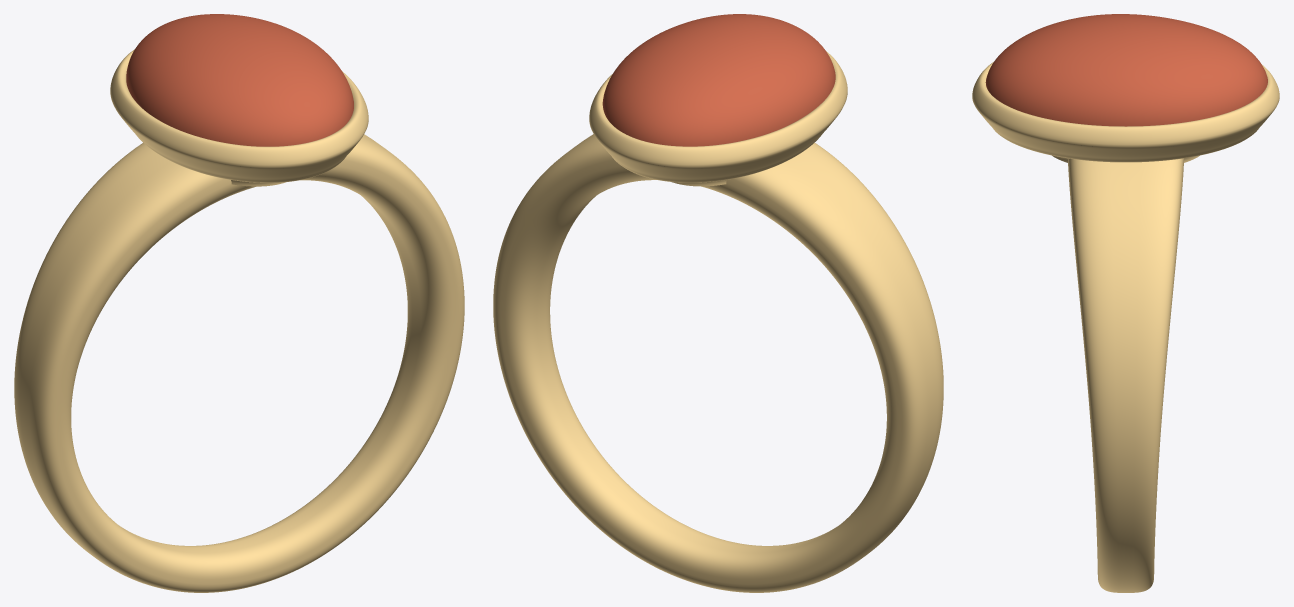
The model's file is vyoma-classic-moonga.glb.
3 renders of one model, left to right at view 1: azimuth 30°, elevation 25°; view 2: azimuth 150°, elevation 25°; view 3: azimuth 270°, elevation 25°, orthographic.
Parts seen in each view (by area): view 1: shank, stone, metal; view 2: shank, stone, metal; view 3: shank, stone, metal.
Part boxes in pixels (x1=…): shank: x1=14, y1=134, x2=464, y2=592; stone: x1=126, y1=14, x2=353, y2=146; metal: x1=110, y1=49, x2=368, y2=186; shank: x1=493, y1=134, x2=943, y2=592; stone: x1=602, y1=14, x2=835, y2=146; metal: x1=589, y1=51, x2=847, y2=186; shank: x1=1068, y1=158, x2=1183, y2=592; stone: x1=985, y1=14, x2=1267, y2=126; metal: x1=972, y1=62, x2=1279, y2=162.
Bounding box in the file's own units: 2.1 × 2.54 × 1.31.
